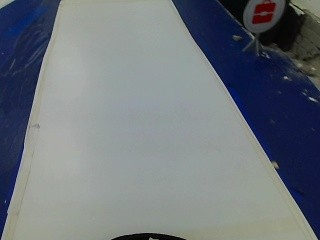company: (240, 0, 284, 34)
